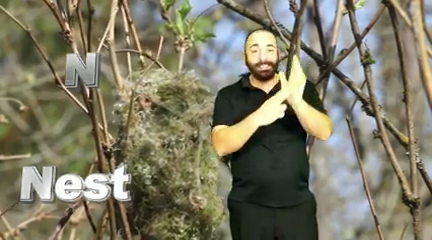N: (244, 52, 310, 127)
